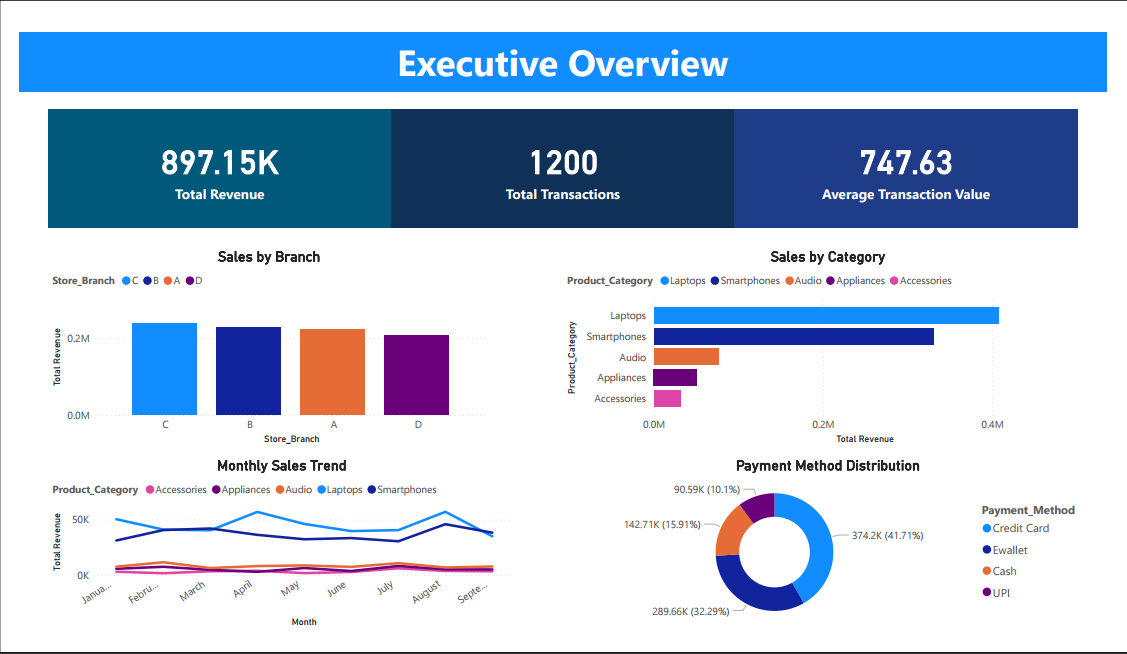

Layout of this report page (visuals, bound fields, positions):
{"tool":"powerbi","page":{"name":"Page 1","canvas":[1280,720],"ordinal":0},"visuals":[{"type":"textbox","box":[0,14,1280,70],"z":0},{"type":"card","fields":{"Values":["electronics_store_sales_dataset_Sheet1.Total Revenue"]},"box":[34,104,404,140],"z":1000},{"type":"card","fields":{"Values":["electronics_store_sales_dataset_Sheet1.Total Transactions"]},"box":[438,104,404,140],"z":2000},{"type":"card","fields":{"Values":["electronics_store_sales_dataset_Sheet1.Average Transaction Value"]},"box":[842,104,404,140],"z":3000},{"type":"columnChart","title":"Sales by Branch","fields":{"Category":["electronics_store_sales_dataset_Sheet1.Store_Branch"],"Y":["electronics_store_sales_dataset_Sheet1.Total Revenue"],"Series":["electronics_store_sales_dataset_Sheet1.Store_Branch"]},"box":[34,268,520,236],"z":4000},{"type":"barChart","title":"Sales by Category","fields":{"Category":["electronics_store_sales_dataset_Sheet1.Product_Category"],"Y":["electronics_store_sales_dataset_Sheet1.Total Revenue"],"Series":["electronics_store_sales_dataset_Sheet1.Product_Category"]},"box":[640,268,624,236],"z":5000},{"type":"lineChart","title":"Monthly Sales Trend ","fields":{"Category":["electronics_store_sales_dataset_Sheet1.Purchase_Date.Variation.Date Hierarchy.Month"],"Y":["electronics_store_sales_dataset_Sheet1.Total Revenue"],"Series":["electronics_store_sales_dataset_Sheet1.Product_Category"]},"box":[34,514,550,206],"z":6000},{"type":"donutChart","title":"Payment Method Distribution","fields":{"Category":["electronics_store_sales_dataset_Sheet1.Payment_Method"],"Y":["electronics_store_sales_dataset_Sheet1.Total Revenue"]},"box":[640,514,624,206],"z":7000}]}

Visuals, with their boxes on the page's 1280x720 design canvas (x1, y1, x2, y2). These are canvas units, not pixel positions in the 1127x654 screenshot, which may show the page scaled, cropped or inside an application window:
textbox: {"x1": 0, "y1": 14, "x2": 1280, "y2": 84}
card - electronics_store_sales_dataset_Sheet1.Total Revenue: {"x1": 34, "y1": 104, "x2": 438, "y2": 244}
card - electronics_store_sales_dataset_Sheet1.Total Transactions: {"x1": 438, "y1": 104, "x2": 842, "y2": 244}
card - electronics_store_sales_dataset_Sheet1.Average Transaction Value: {"x1": 842, "y1": 104, "x2": 1246, "y2": 244}
"Sales by Branch" columnChart: {"x1": 34, "y1": 268, "x2": 554, "y2": 504}
"Sales by Category" barChart: {"x1": 640, "y1": 268, "x2": 1264, "y2": 504}
"Monthly Sales Trend " lineChart: {"x1": 34, "y1": 514, "x2": 584, "y2": 720}
"Payment Method Distribution" donutChart: {"x1": 640, "y1": 514, "x2": 1264, "y2": 720}
